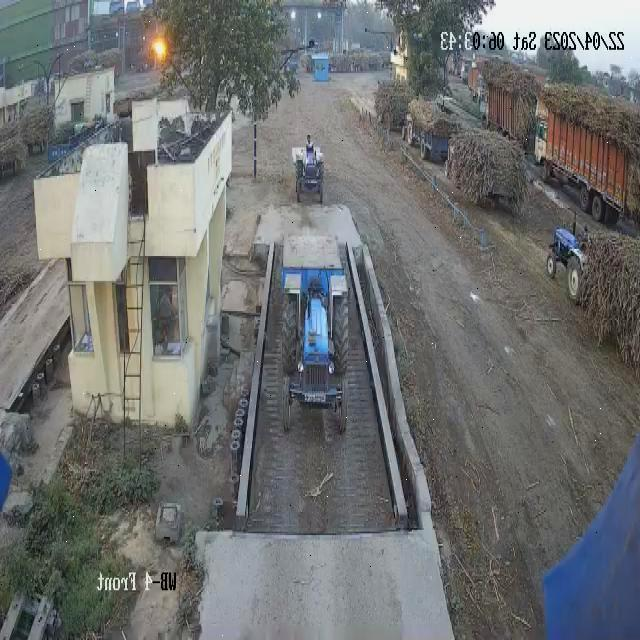Tratores - v5 YOLO V8L 2024-11-13: (274, 267, 356, 445), (542, 210, 600, 302), (293, 137, 329, 203)
